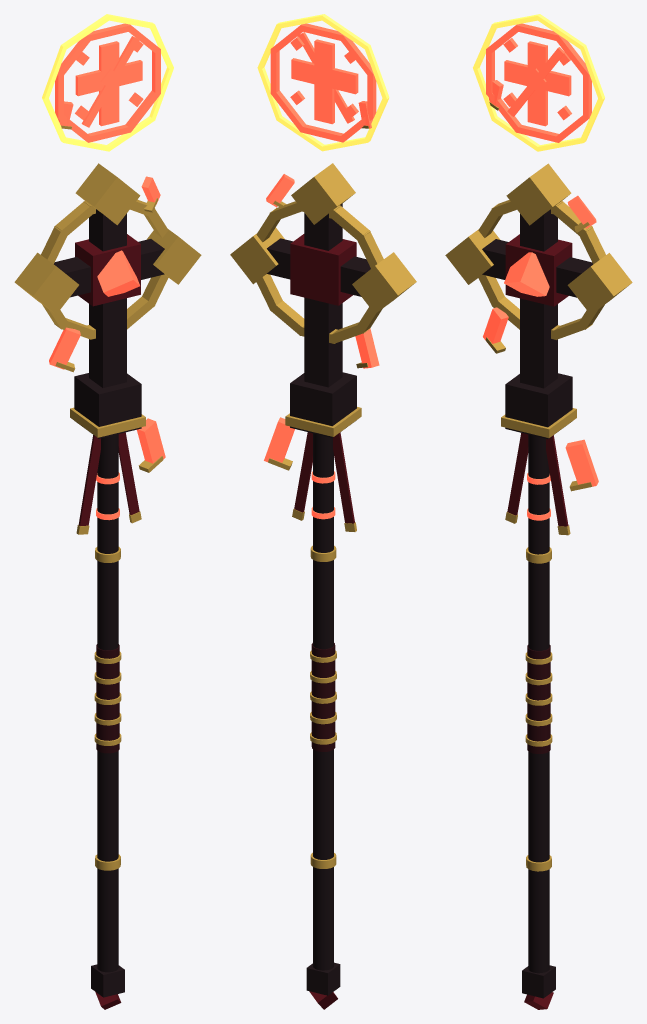
3 renders of one model, left to right at view 1: azimuth 30°, elevation 25°; view 2: azimuth 150°, elevation 25°; view 3: azimuth 330°, elevation 25°, orthographic.
Parts seen in each view (by area): view 1: ember-saint-staff; view 2: ember-saint-staff; view 3: ember-saint-staff.
Part boxes in pixels (<box>): ember-saint-staff: <box>14,14,201,1009</box>; ember-saint-staff: <box>230,14,416,1009</box>; ember-saint-staff: <box>445,14,632,1009</box>.
Bounding box in the file's own units: 0.4108 × 2.32 × 0.1522.
